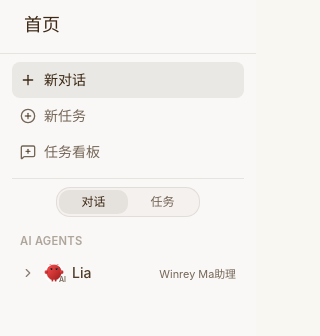
it: TasksSubSidebar › shows AI Agents in conversation mode
This screenshot has width=320, height=336.
Check: the text "AI Agents" is shown, box [20,234,82,248]
What coordinates should you click on to do the following:
click the text "Lia"
I would click on:
 (82, 272)
Its box is [72,262,91,282].
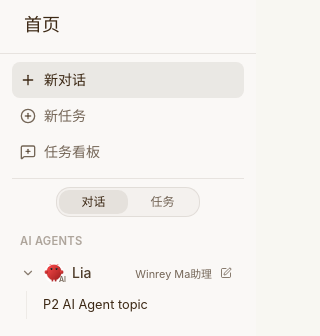
Check: the text "P2 AI Agent topic" is shown, box [43,297,148,312]
